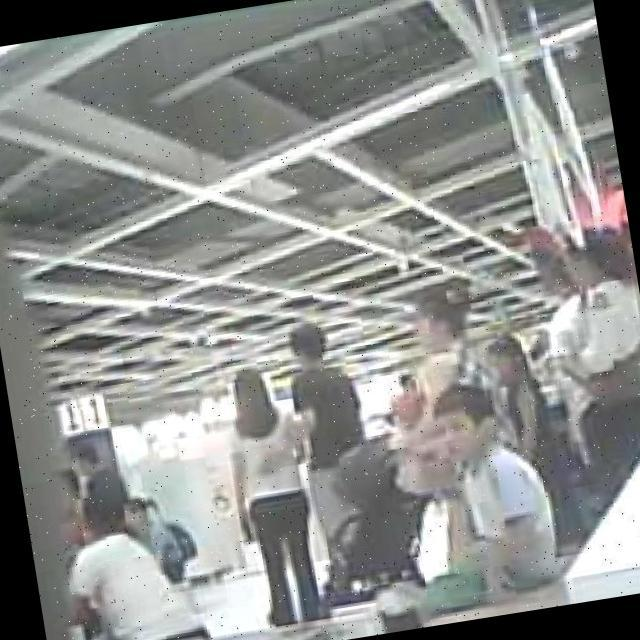person: (378, 374, 564, 606), (214, 360, 340, 629), (278, 317, 392, 590), (532, 221, 640, 478), (53, 478, 218, 640), (365, 288, 489, 502), (546, 225, 640, 456), (487, 325, 561, 488), (410, 276, 494, 388), (118, 470, 202, 574), (65, 430, 129, 528)
